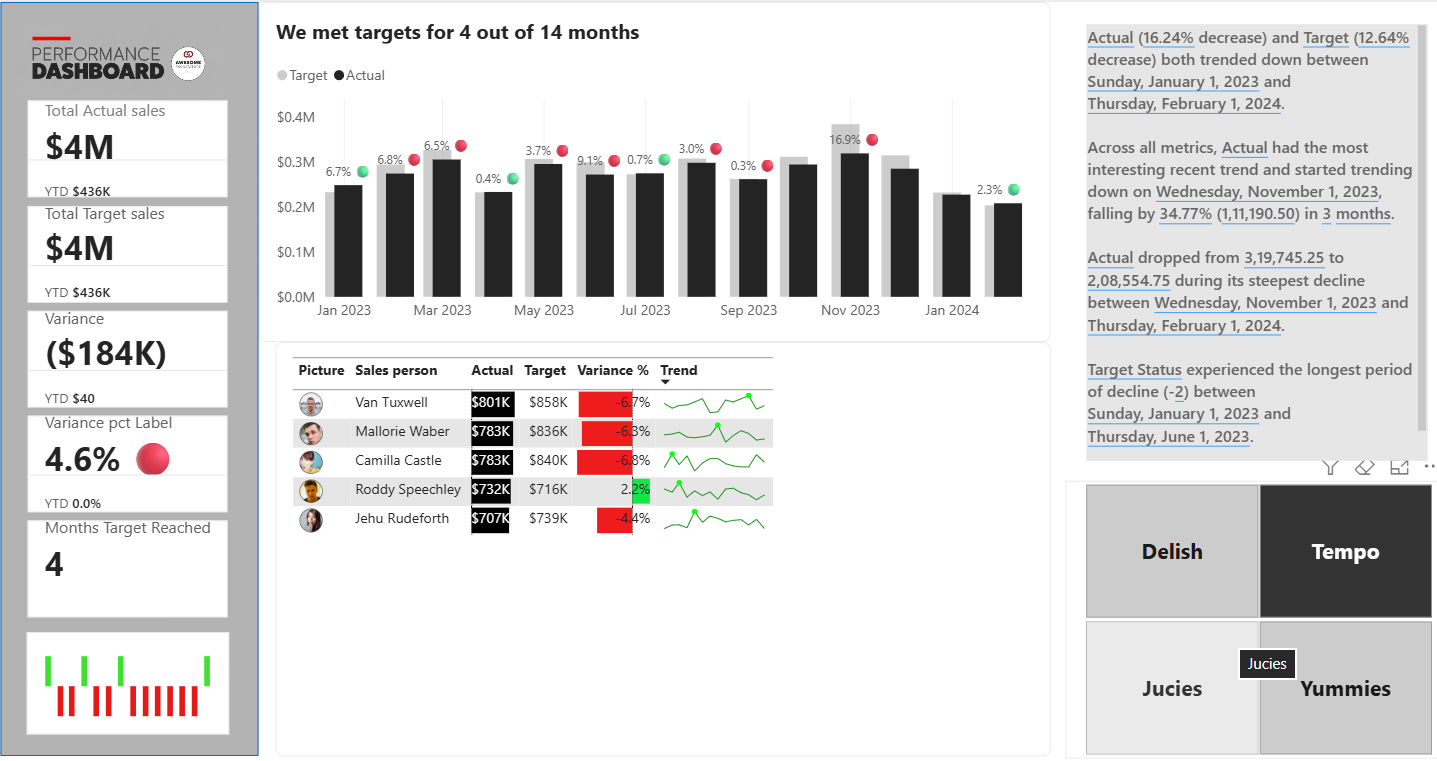

The page's visual inventory and layout, read from the dashboard file:
{"tool":"powerbi","page":{"name":"Page 1","canvas":[1920,1080],"ordinal":0},"visuals":[{"type":"shape","box":[8,0,258,754],"z":0},{"type":"cardVisual","title":"Total Actual Salws","fields":{"Data":["Actual.Total Actual Sales","Targets.Total Target Sales","Actual.Variance","Actual.Variance pct Label","Actual.Months Target Reached"]},"box":[34,97,202,520],"z":1000},{"type":"columnChart","fields":{"Category":["Calendar.Date"],"Y":["Actual.Target Status"]},"box":[34,630,202,102],"z":2000},{"type":"clusteredColumnChart","fields":{"Category":["Calendar.Date"],"Y":["Targets.Total Target Sales","Actual.Total Actual Sales"]},"box":[266,0,791,340],"z":3000},{"type":"slicer","fields":{"Values":["dimPeople.Team"]},"box":[1072.5,478.8,385,277.5],"z":4000},{"type":"tableEx","fields":{"Values":["dimPeople.Picture","dimPeople.Sales person","Actual.Total Actual Sales","Targets.Total Target Sales","Actual.Variance %","SparklineData(Actual.Total Actual Sales_[Calendar.Date])"]},"box":[282,340,775,414],"z":5000},{"type":"textbox","box":[1093.8,22.5,341,436],"z":6000},{"type":"image","box":[0,23,258,74],"z":7000},{"type":"shape","box":[287,316,45,33],"z":8000}]}

Visuals, with their boxes on the page's 1920x1080 design canvas (x1, y1, x2, y2). These are canvas units, not pixel positions in the 1437x761 screenshot, which may show the page scaled, cropped or inside an application window:
shape: pyautogui.locateOnScreen(8, 0, 266, 754)
"Total Actual Salws" cardVisual: pyautogui.locateOnScreen(34, 97, 236, 617)
columnChart - Calendar.Date x Actual.Target Status: pyautogui.locateOnScreen(34, 630, 236, 732)
clusteredColumnChart - Calendar.Date x Targets.Total Target Sales: pyautogui.locateOnScreen(266, 0, 1057, 340)
slicer - dimPeople.Team: pyautogui.locateOnScreen(1072, 479, 1458, 756)
tableEx - dimPeople.Picture x dimPeople.Sales person: pyautogui.locateOnScreen(282, 340, 1057, 754)
textbox: pyautogui.locateOnScreen(1094, 22, 1435, 458)
image: pyautogui.locateOnScreen(0, 23, 258, 97)
shape: pyautogui.locateOnScreen(287, 316, 332, 349)
